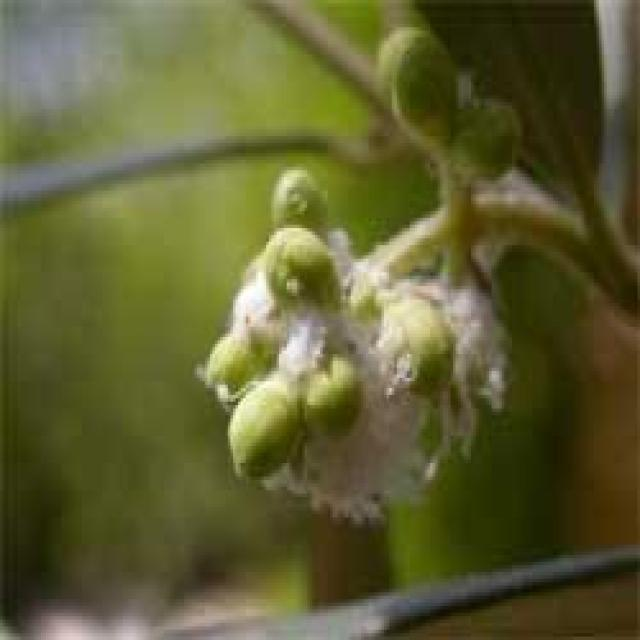Psyllid: (197, 170, 502, 524)
